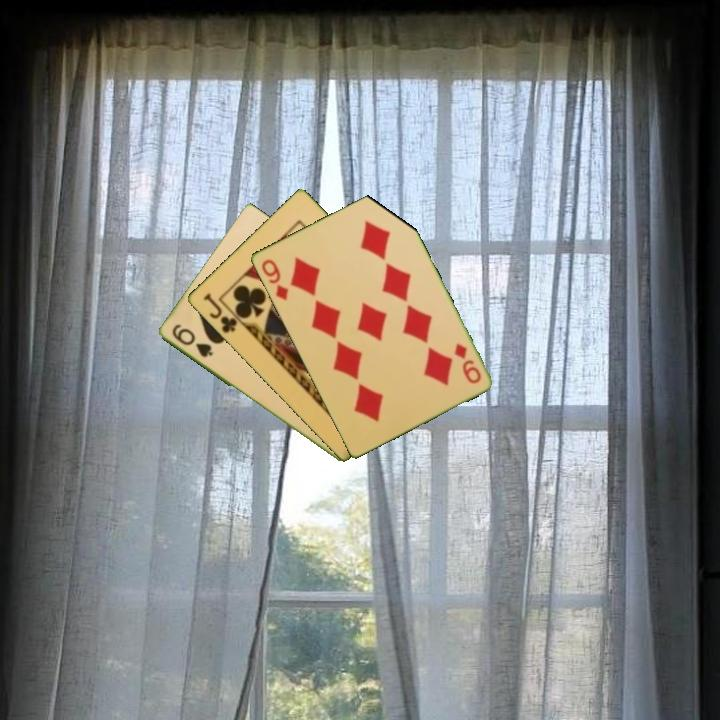6s: (168, 320, 215, 361)
9d: (257, 255, 291, 303), (450, 339, 484, 386)
Jc: (199, 289, 245, 336)
